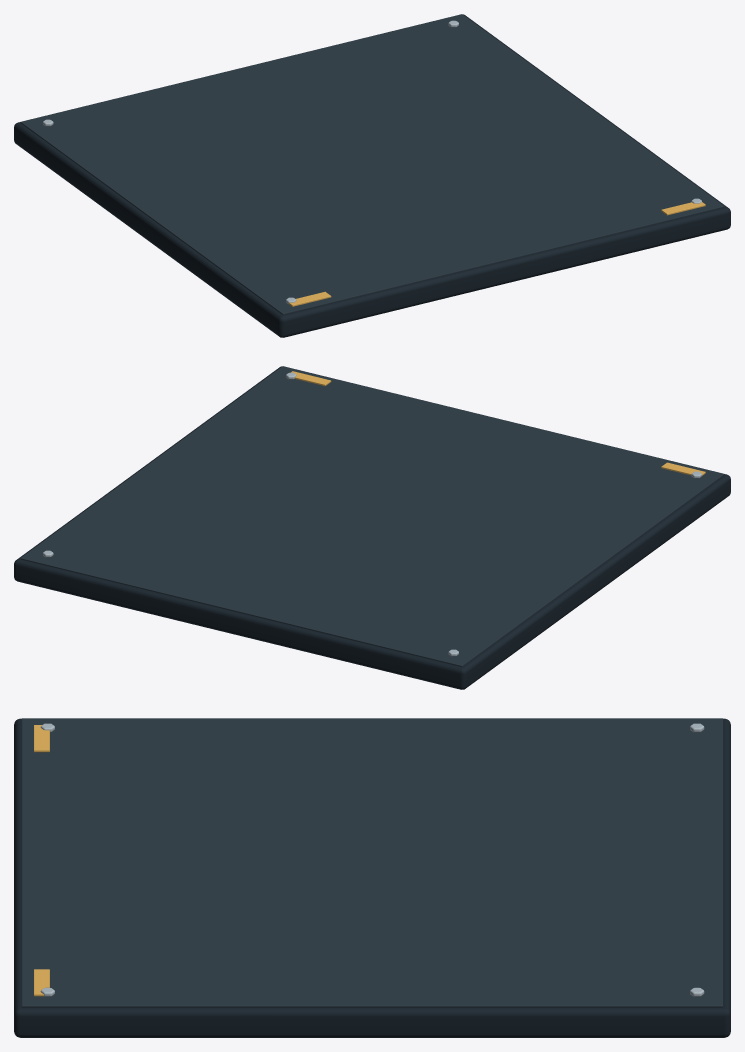
Rendered from station-plinth.glb.
The picture shows the model from 3 angles, top to bottom: view 1: azimuth 30°, elevation 25°; view 2: azimuth 150°, elevation 25°; view 3: azimuth 270°, elevation 25°; orthographic projection. The views are drawn at different scales.
Parts seen in each view (by area): view 1: station_plinth_Enamel_Graphite, station_plinth_Cast_Base, station_plinth_Safety_Amber; view 2: station_plinth_Enamel_Graphite, station_plinth_Cast_Base, station_plinth_Safety_Amber; view 3: station_plinth_Enamel_Graphite, station_plinth_Cast_Base, station_plinth_Safety_Amber.
Boxes of the visible parts, box(x1,y1,x2,y2) form: station_plinth_Enamel_Graphite: box(20, 14, 724, 314); station_plinth_Cast_Base: box(14, 14, 730, 337); station_plinth_Safety_Amber: box(289, 202, 705, 306); station_plinth_Enamel_Graphite: box(20, 366, 724, 666); station_plinth_Cast_Base: box(14, 366, 730, 689); station_plinth_Safety_Amber: box(291, 371, 705, 475); station_plinth_Enamel_Graphite: box(22, 718, 722, 1007); station_plinth_Cast_Base: box(14, 718, 730, 1037); station_plinth_Safety_Amber: box(34, 725, 49, 996).
Size of the model in its own units: 3.5 by 0.1925 by 3.6.
